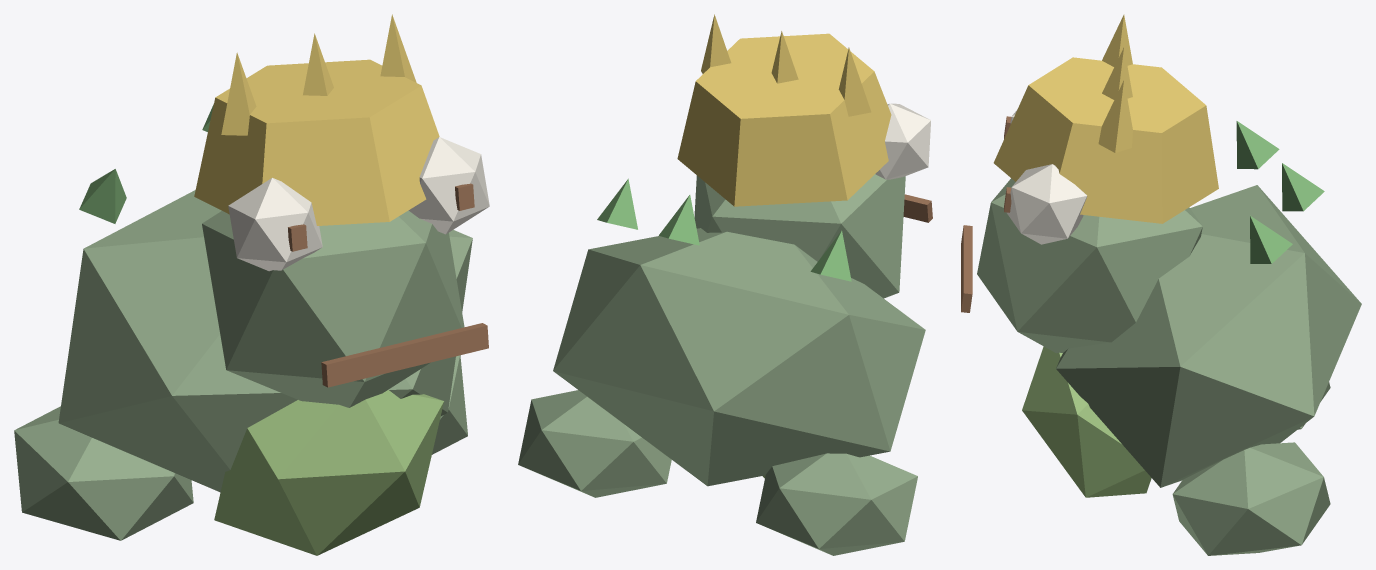
File: npcpose_toad_king_attack_04.glb
The picture shows the model from 3 angles, left to right: view 1: azimuth 30°, elevation 25°; view 2: azimuth 150°, elevation 25°; view 3: azimuth 270°, elevation 25°; orthographic projection. The views are drawn at different scales.
Visible parts, largest first — view 1: npcpose; view 2: npcpose; view 3: npcpose.
Part boxes in pixels (<box>): npcpose: <box>14,14,489,555</box>; npcpose: <box>518,14,932,555</box>; npcpose: <box>961,14,1361,555</box>.
Size of the model in its own units: 1.75 by 1.98 by 1.61.
